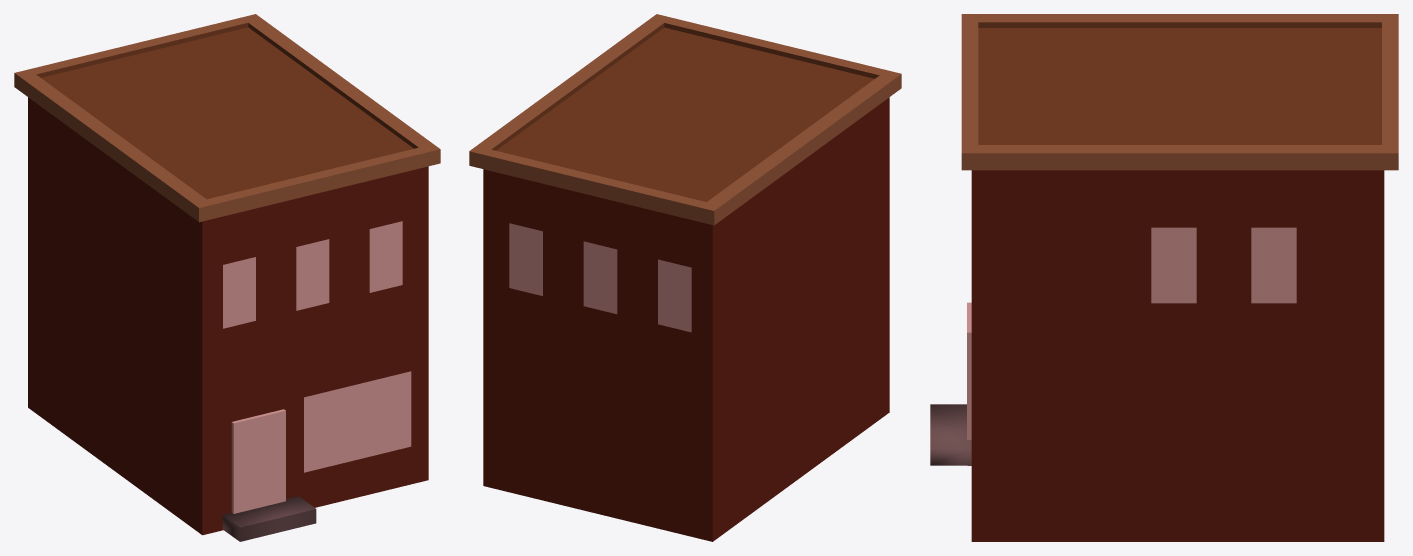
The model's file is Building 3.fbx.
The picture shows the model from 3 angles, left to right: view 1: azimuth 30°, elevation 25°; view 2: azimuth 150°, elevation 25°; view 3: azimuth 270°, elevation 25°; orthographic projection. The views are drawn at different scales.
Visible parts, largest first — view 1: Cube.002; view 2: Cube.002; view 3: Cube.002.
Boxes of the visible parts, <box> form: Cube.002: <box>14,14,440,541</box>; Cube.002: <box>469,14,901,541</box>; Cube.002: <box>930,14,1398,541</box>.
Size of the model in its own units: 1084 by 1426 by 1540.
